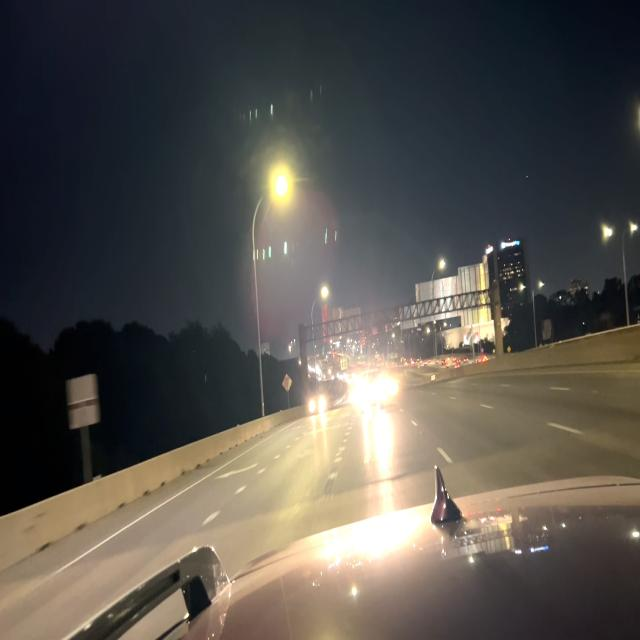back-of-sign: (400, 261, 492, 331), (321, 303, 363, 346), (281, 370, 293, 395)
